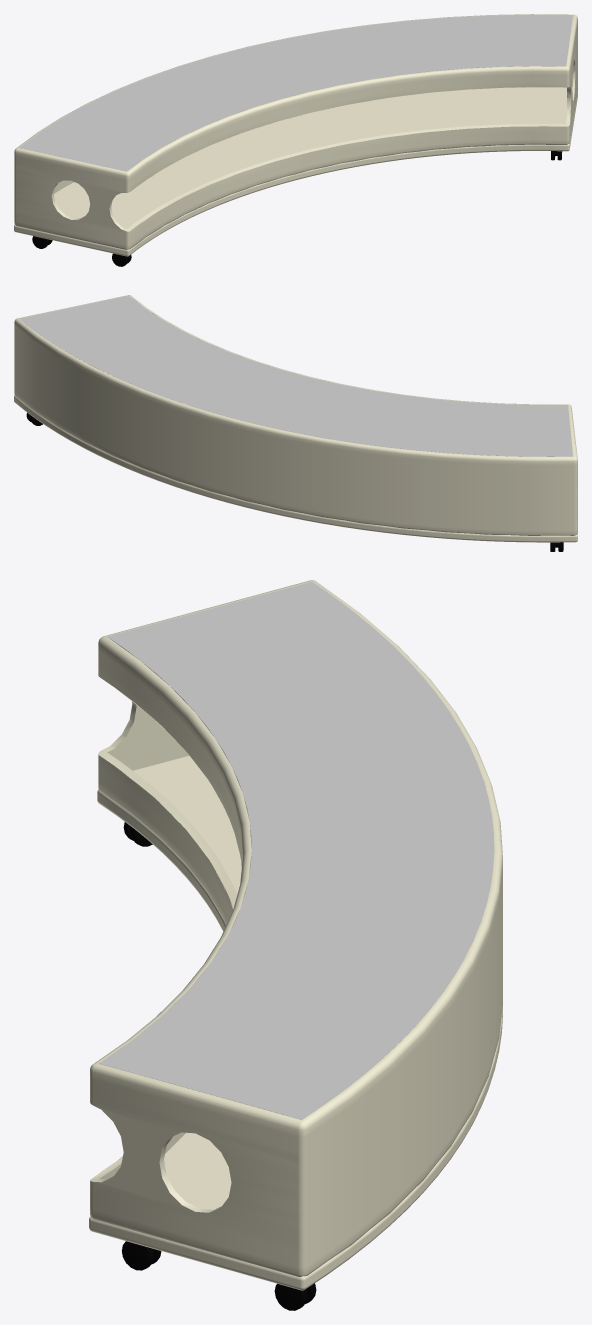
File: LongTable.fbx
3 renders of one model, top to bottom at view 1: azimuth 30°, elevation 25°; view 2: azimuth 150°, elevation 25°; view 3: azimuth 270°, elevation 25°, orthographic. The views are drawn at different scales.
Visible parts, largest first — view 1: Body, GlassTop; view 2: Body, GlassTop; view 3: GlassTop, Body.
Part boxes in pixels (x1,y1,x2,y2): Body: [14, 14, 577, 256]; GlassTop: [19, 14, 572, 171]; Body: [14, 295, 577, 542]; GlassTop: [19, 295, 572, 456]; GlassTop: [99, 582, 494, 1119]; Body: [89, 580, 502, 1290].
Bounding box in the file's own units: 12.78 × 2.2 × 4.09.
